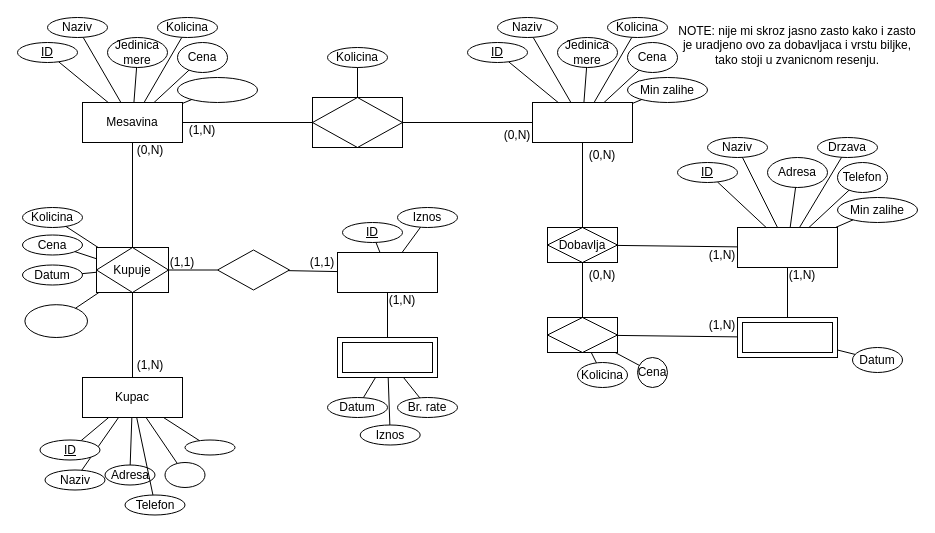
The diagram is 935 pixels wide and 533 high, and some of its shapes have lost their labels. Here are the shapes that lost their labels. From the top down, the box of each, then its label:
(176, 76, 258, 102): Recept
(312, 96, 402, 148): Sastoji se od
(532, 102, 632, 142): Vrsta biljke
(736, 226, 838, 268): Dobavljac
(216, 249, 290, 290): Izdaje se
(336, 252, 438, 292): Racun
(24, 304, 88, 338): Uslovi placanja
(546, 316, 618, 352): Sadrzi
(736, 316, 838, 358): Nabavka
(336, 336, 438, 378): Naplata
(184, 439, 235, 455): Ime
(164, 462, 205, 488): Prezime
